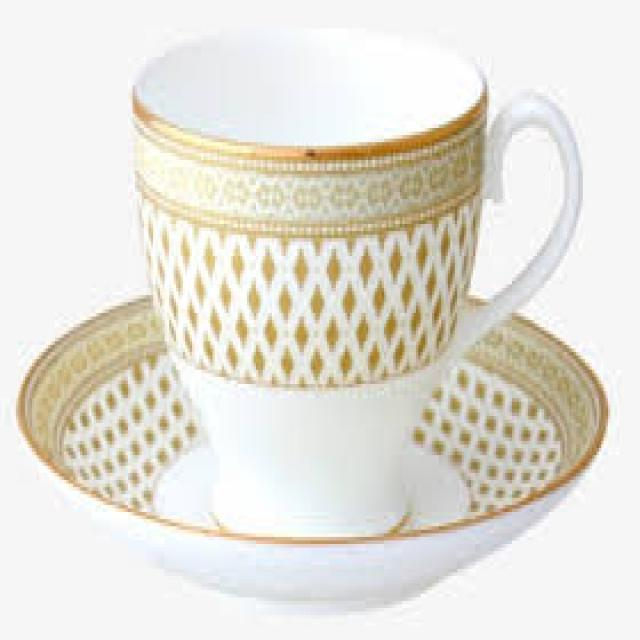taza: (112, 0, 590, 541)
